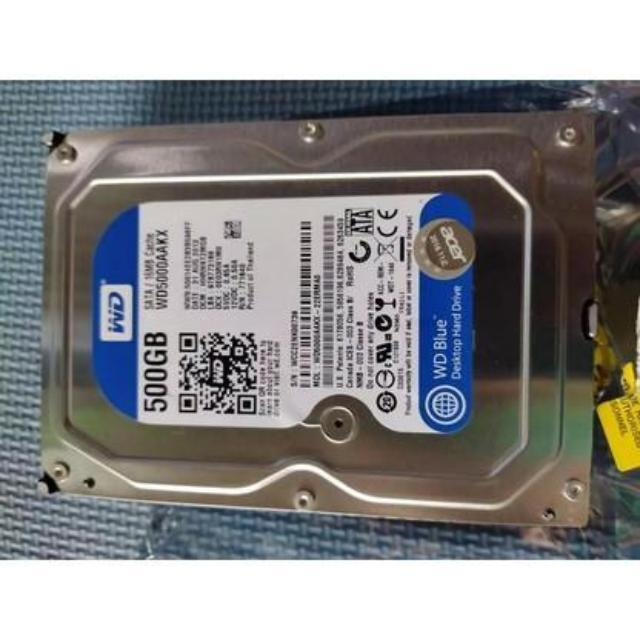DISK: (31, 114, 604, 532)
